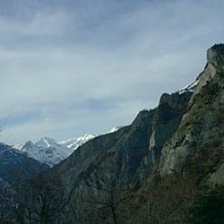neutral: (7, 14, 223, 224)
